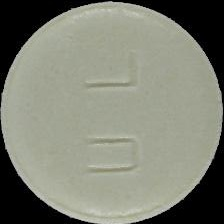63629-3248: (0, 0, 224, 224)
